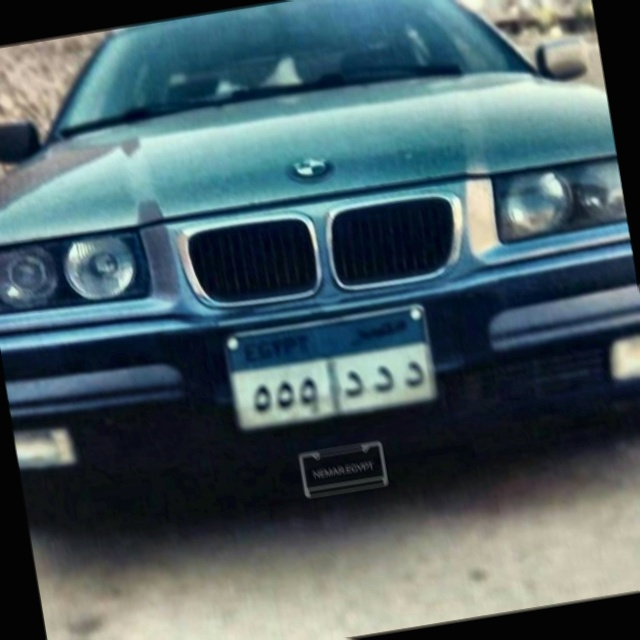License Plate: (217, 298, 447, 439)
